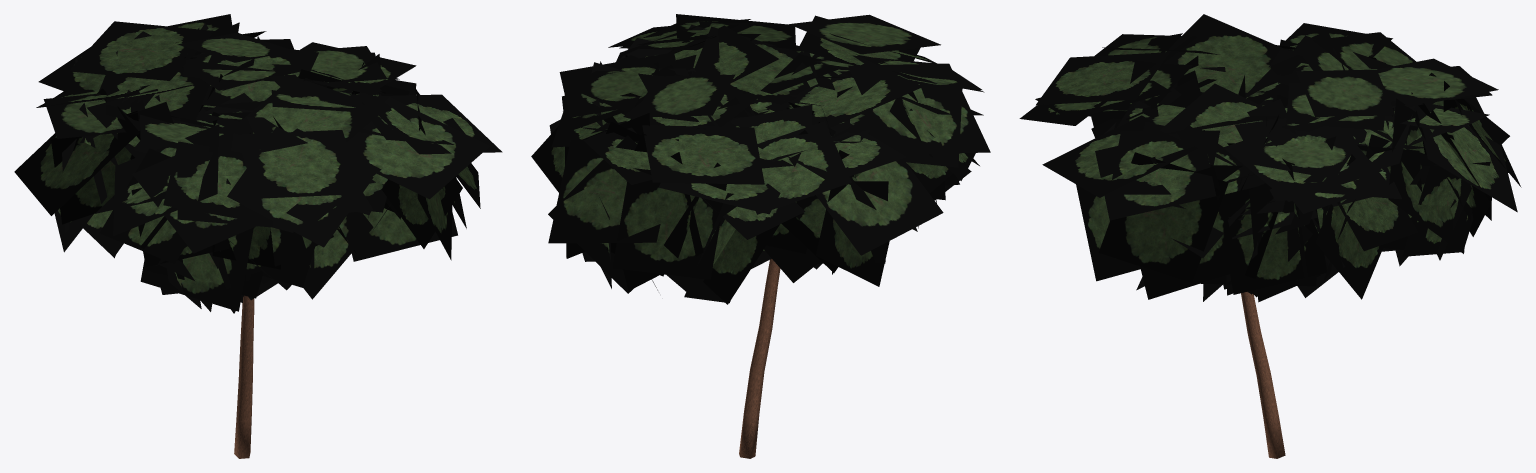
The model's file is SM_Morin_PinoDomestico_LOD2.fbx.
The picture shows the model from 3 angles, left to right: view 1: azimuth 30°, elevation 25°; view 2: azimuth 150°, elevation 25°; view 3: azimuth 270°, elevation 25°; orthographic projection.
Parts seen in each view (by area): view 1: SM_Morin_PinoDomestico_LOD2; view 2: SM_Morin_PinoDomestico_LOD2; view 3: SM_Morin_PinoDomestico_LOD2.
Boxes of the visible parts, x1,y1,x2,y2 form: SM_Morin_PinoDomestico_LOD2: [14, 14, 502, 458]; SM_Morin_PinoDomestico_LOD2: [531, 14, 990, 458]; SM_Morin_PinoDomestico_LOD2: [1019, 14, 1521, 458].
Size of the model in its own units: 1823 by 2050 by 1739.
Materials: 2 (2 with a texture image).
